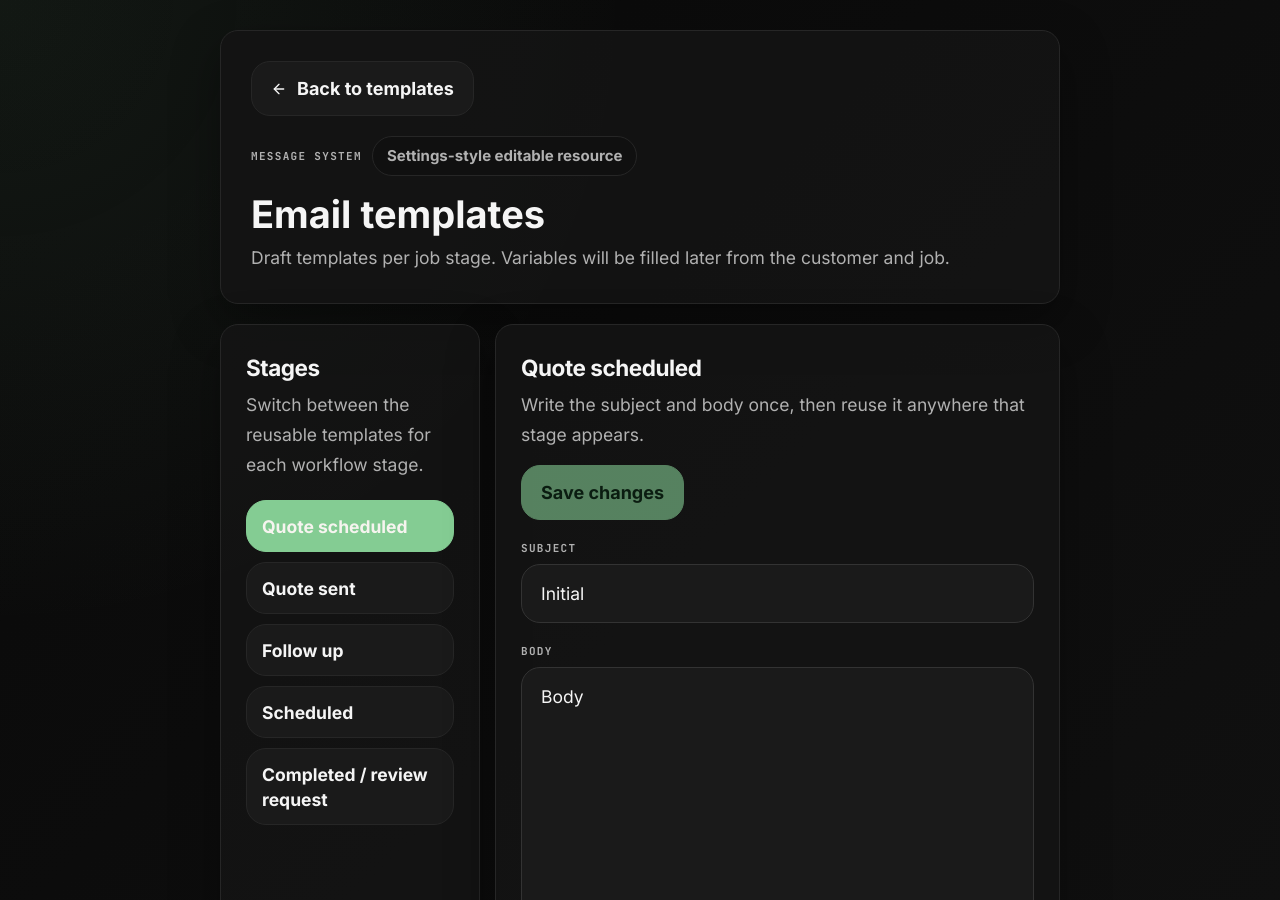
Test: EmailTemplatesPage › loads templates, enables save when dirty, and surfaces save notices
Expected: the button "Save changes" is disabled, [521,465,684,520]
Replace the text in the field showing "Initial" with "Updated": (778, 594) [521,564,1034,623]
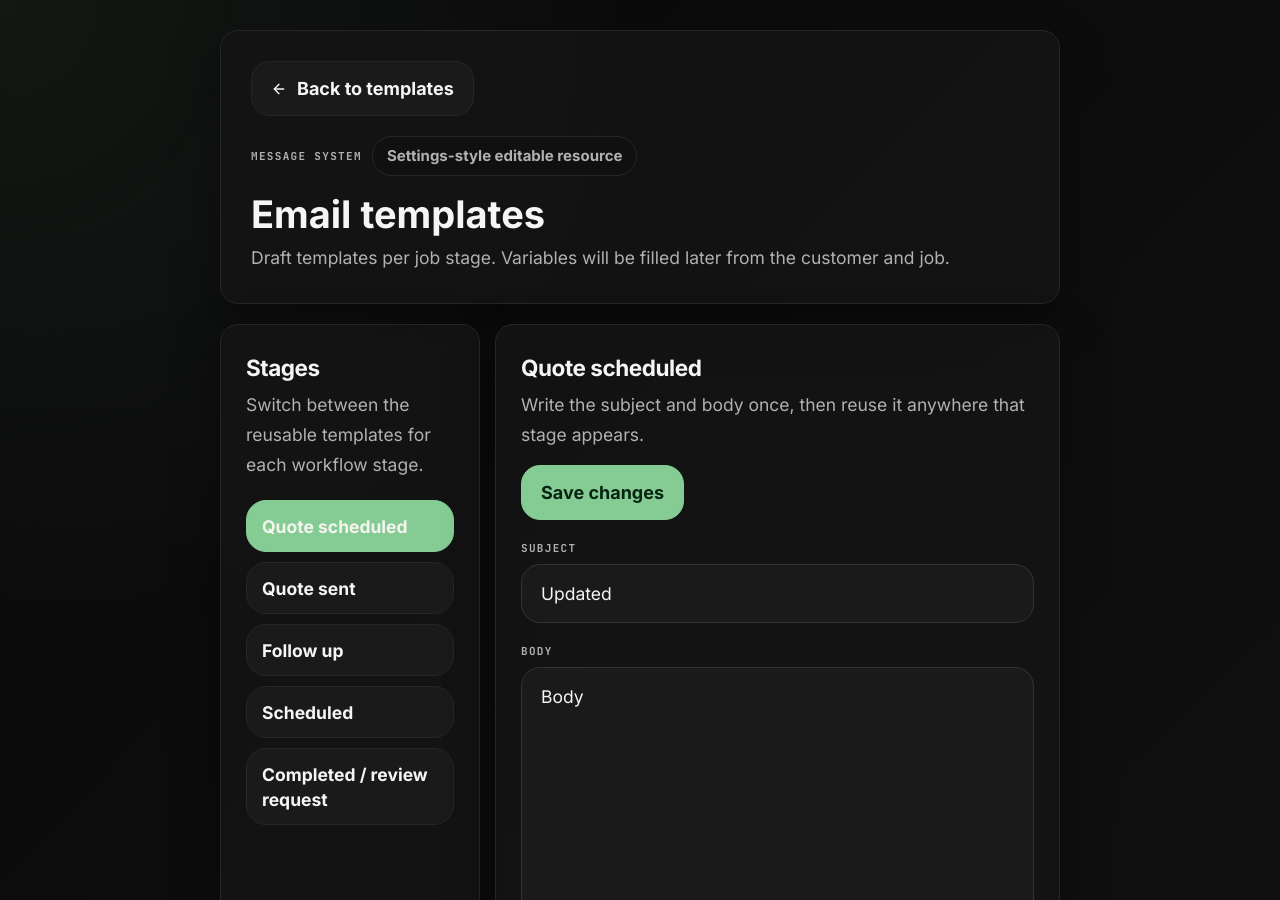
Expected: the button "Save changes" is enabled
Click the button "Save changes": (602, 493) [521,465,684,520]
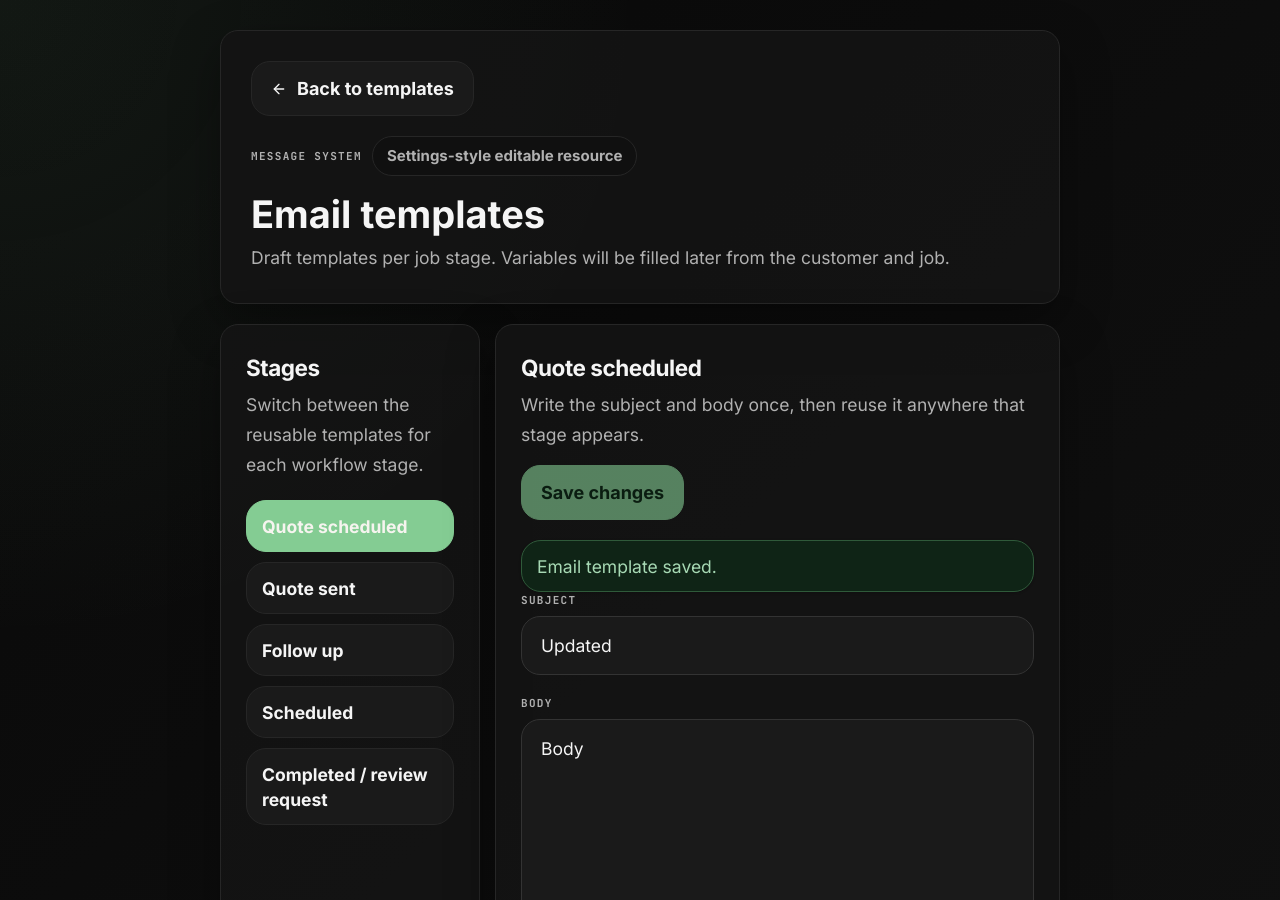
Expected: the text "Email template saved." is shown, [537,554,717,579]
